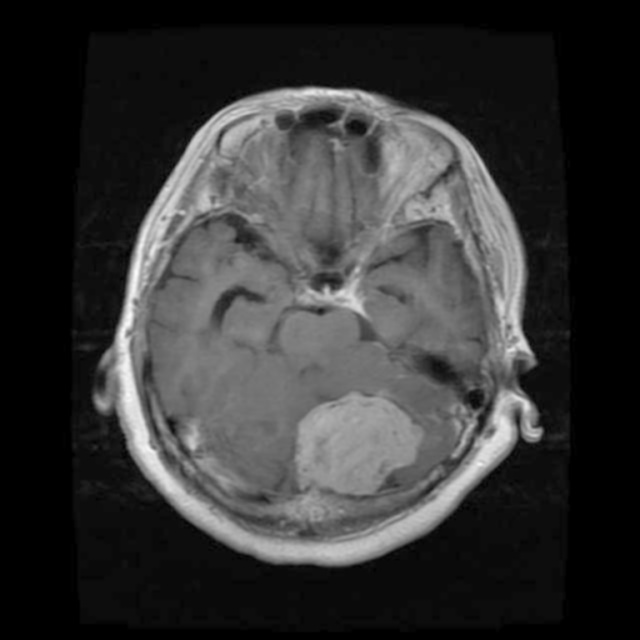meningioma tumor: (292, 385, 432, 503)
